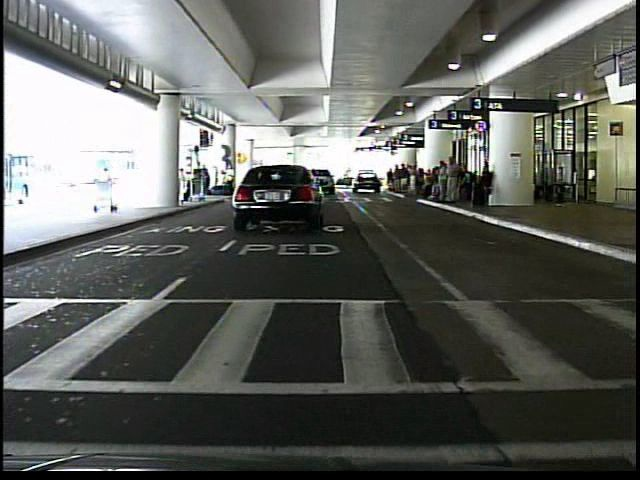person: (443, 153, 465, 208)
